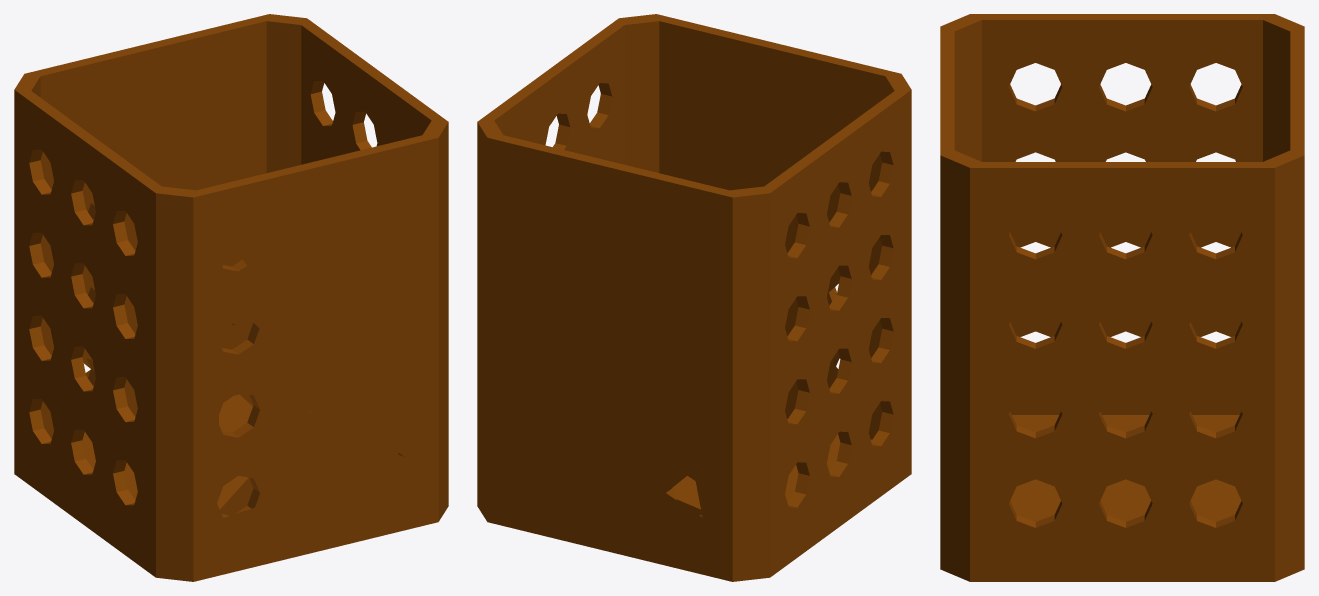
File: Blyantsholder_Brun.fbx
The picture shows the model from 3 angles, left to right: view 1: azimuth 30°, elevation 25°; view 2: azimuth 150°, elevation 25°; view 3: azimuth 270°, elevation 25°; orthographic projection. The views are drawn at different scales.
Parts seen in each view (by area): view 1: Cube; view 2: Cube; view 3: Cube.
Part boxes in pixels (x1,y1,x2,y2): Cube: [14, 14, 448, 581]; Cube: [477, 14, 911, 581]; Cube: [940, 14, 1304, 581].
Size of the model in its own units: 13.91 by 17.45 by 13.91.
